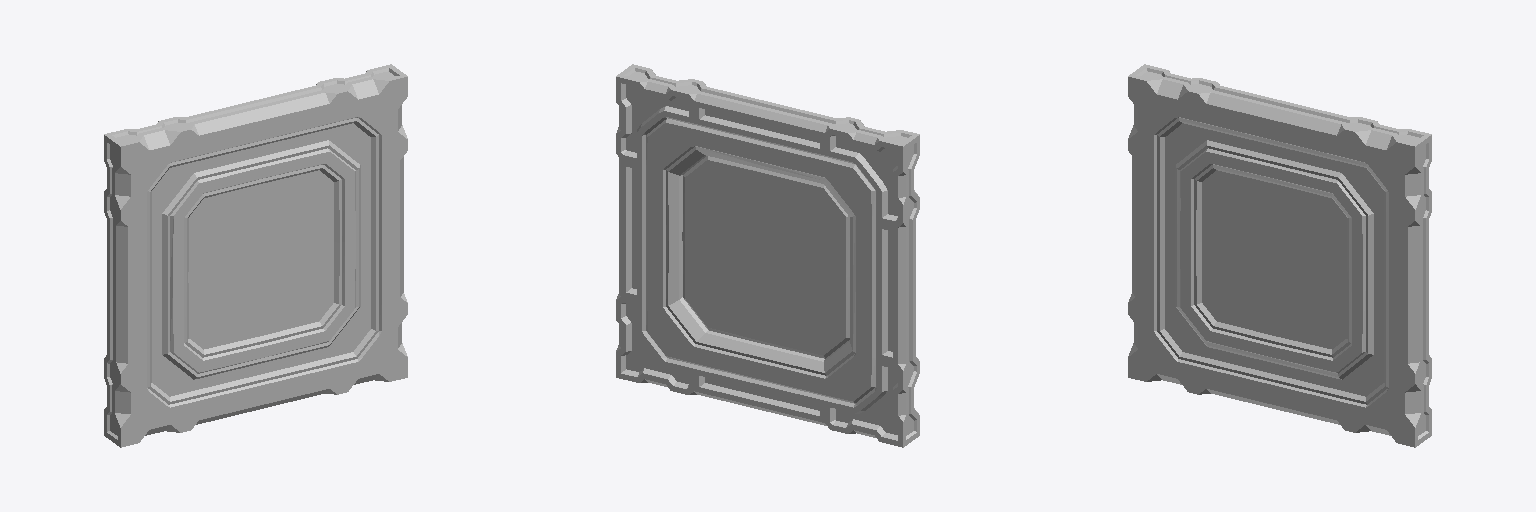
The picture shows the model from 3 angles: view 1: azimuth 30°, elevation 25°; view 2: azimuth 150°, elevation 25°; view 3: azimuth 330°, elevation 25°; orthographic projection.
Visible parts, largest first — view 1: defaultMaterial.001; view 2: defaultMaterial.001; view 3: defaultMaterial.001.
Boxes of the visible parts, box(x1,y1,x2,y2) form: defaultMaterial.001: box(104, 64, 407, 447); defaultMaterial.001: box(616, 64, 919, 447); defaultMaterial.001: box(1128, 64, 1431, 447).
Bounding box in the file's own units: 1 × 1 × 0.1014.